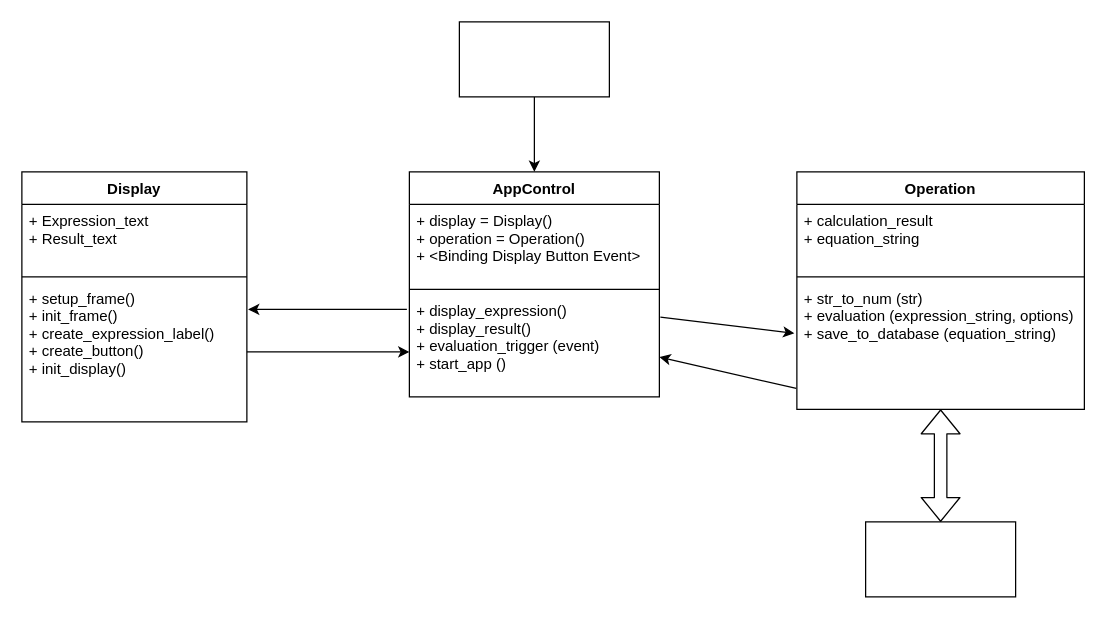
The diagram is 1106 pixels wide and 619 high, and some of its shapes have lost their labels. The centre of each missing label's shape, as x and y in pixels:
DATABASE: [940,559]
Start Program: [533,59]
